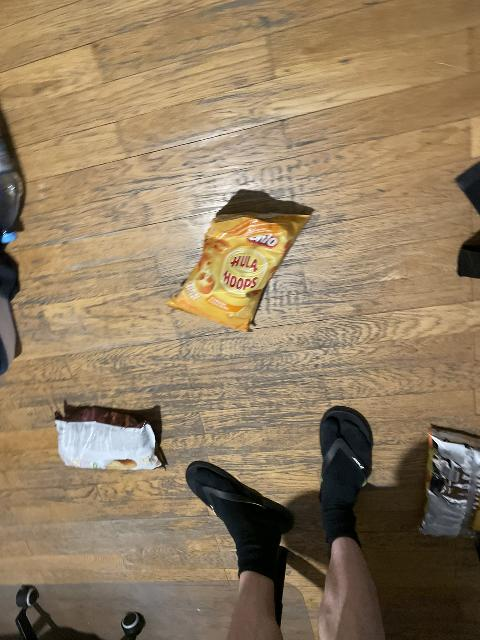Chio Cascaval 125g: (421, 424, 480, 541)
Chio Hula Hoops Cheese 70g: (166, 199, 317, 332)
Lays Beef Grilled Ribs 125g: (53, 406, 164, 471)
